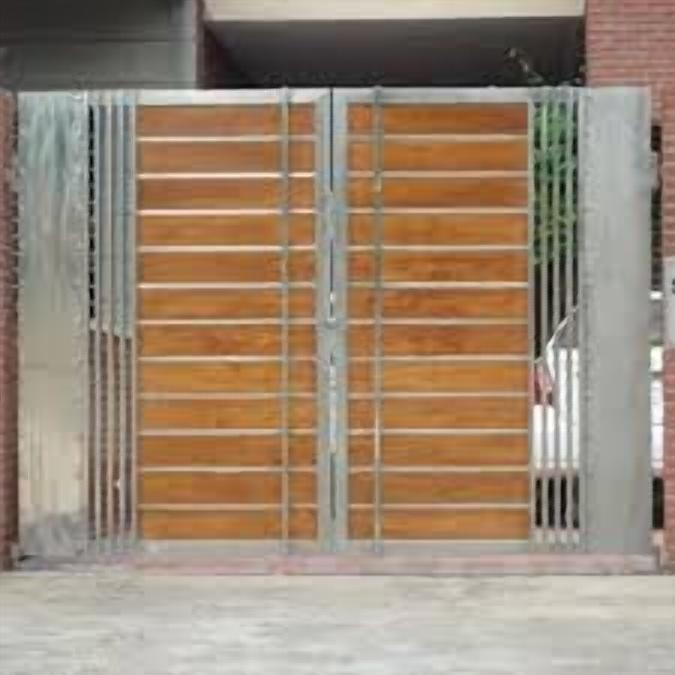Gate: (9, 85, 664, 575)
